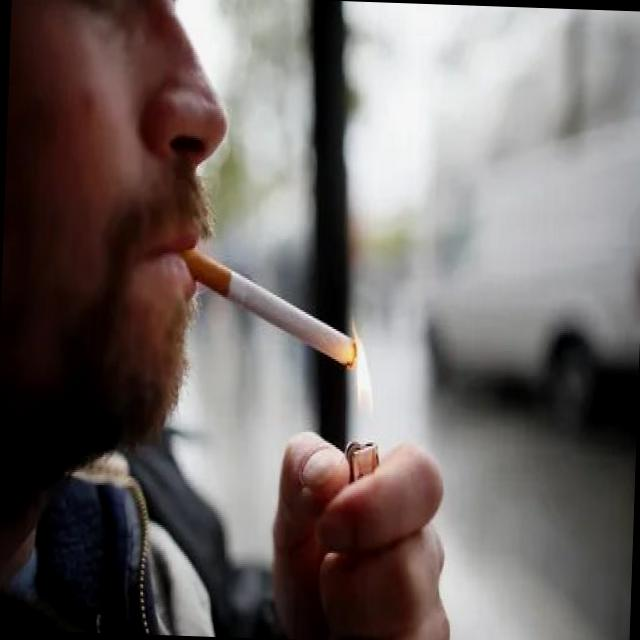cigarette: (175, 249, 365, 369)
